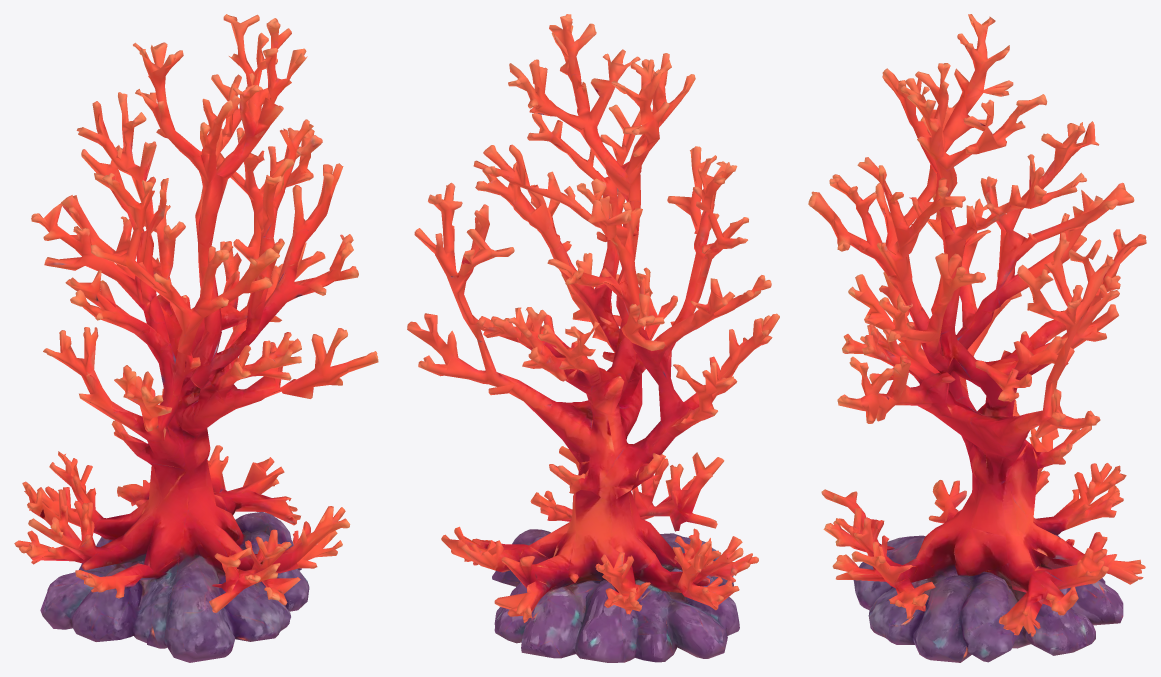
Rendered from coral_stack_red.glb.
3 views of the same model, side by side, from view 1: azimuth 30°, elevation 25°; view 2: azimuth 150°, elevation 25°; view 3: azimuth 270°, elevation 25° (orthographic). The views are drawn at different scales.
Bounding box in the file's own units: 1.09 × 1.9 × 0.9907.
Materials: 1 (1 with a texture image).
